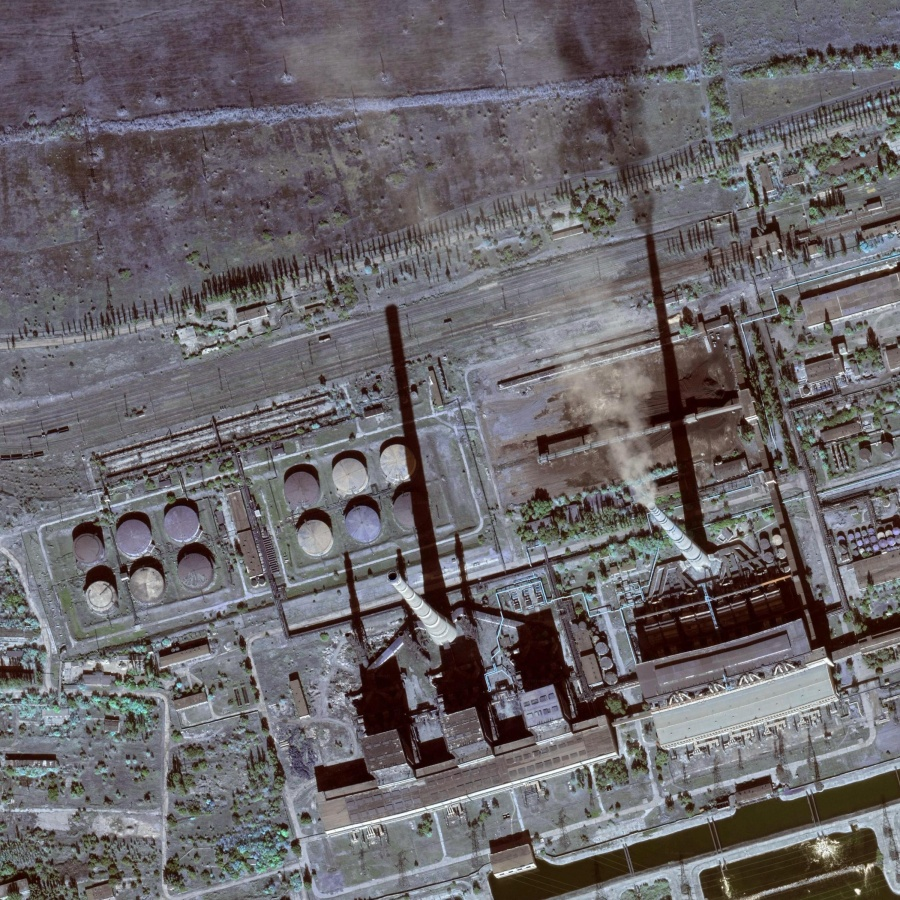PowerPlant: (256, 211, 855, 826), (34, 475, 242, 651)
